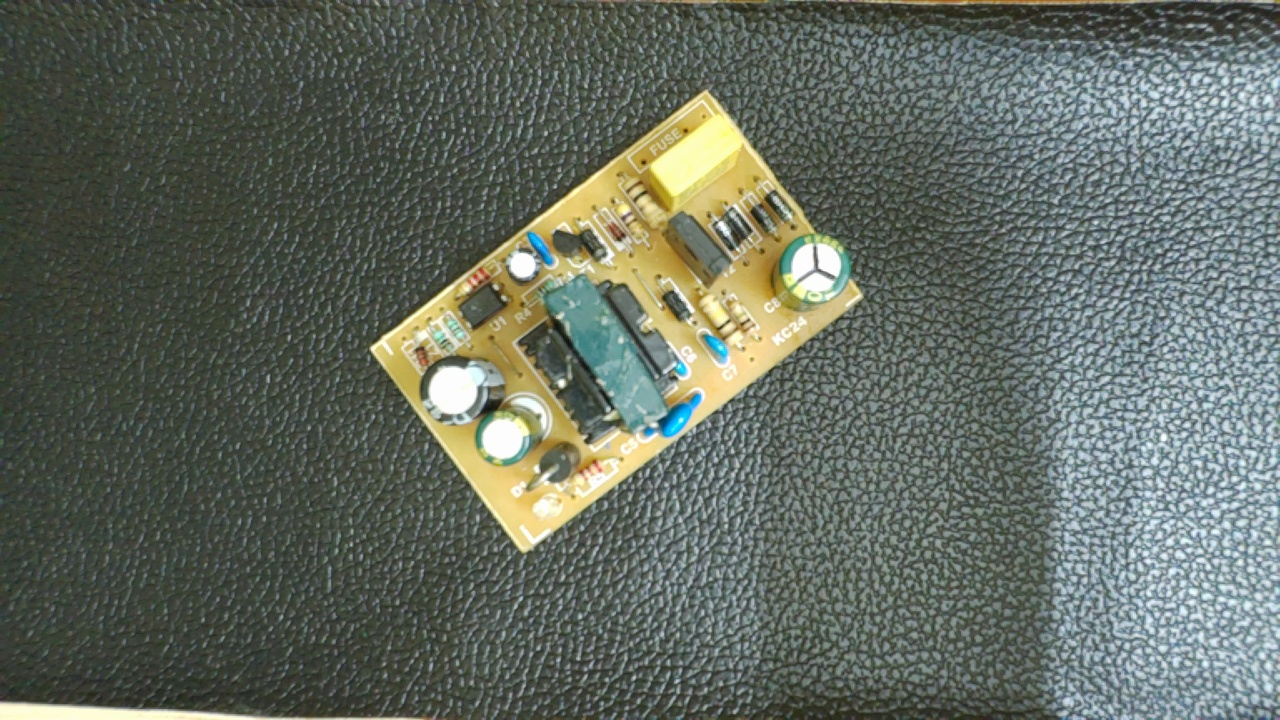hv_capacitor: (771, 233, 851, 312)
mov: (638, 389, 707, 441)
optocoupler: (449, 279, 521, 330)
